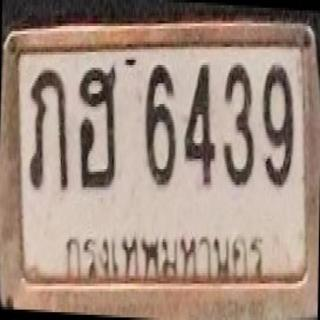A32: (28, 63, 72, 198)
A44: (72, 63, 120, 197)
N03: (218, 60, 257, 188)
N04: (182, 61, 220, 188)
N06: (138, 61, 180, 190)
N09: (256, 60, 296, 186)
P04: (63, 229, 271, 283)
